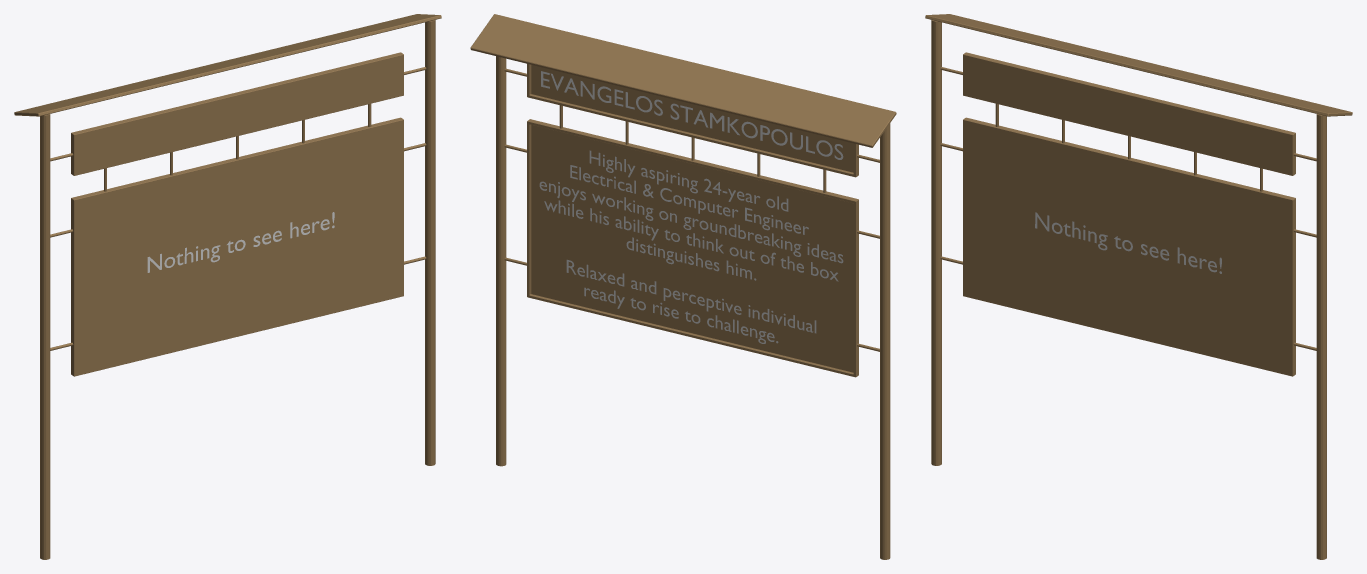
The model's file is stand1.gltf.
The picture shows the model from 3 angles, left to right: view 1: azimuth 30°, elevation 25°; view 2: azimuth 150°, elevation 25°; view 3: azimuth 330°, elevation 25°; orthographic projection.
Visible parts, largest first — view 1: NEws, Text.002; view 2: NEws, Text.001, Text; view 3: NEws, Text.002.
Part boxes in pixels (bbox=[...]): NEws: bbox=[14, 14, 441, 559]; Text.002: bbox=[147, 212, 334, 272]; NEws: bbox=[470, 14, 896, 559]; Text.001: bbox=[539, 150, 843, 343]; Text: bbox=[541, 71, 843, 159]; NEws: bbox=[925, 14, 1352, 559]; Text.002: bbox=[1035, 212, 1221, 273].
Bounding box in the file's own units: 3.3 × 3.5 × 0.3512.
